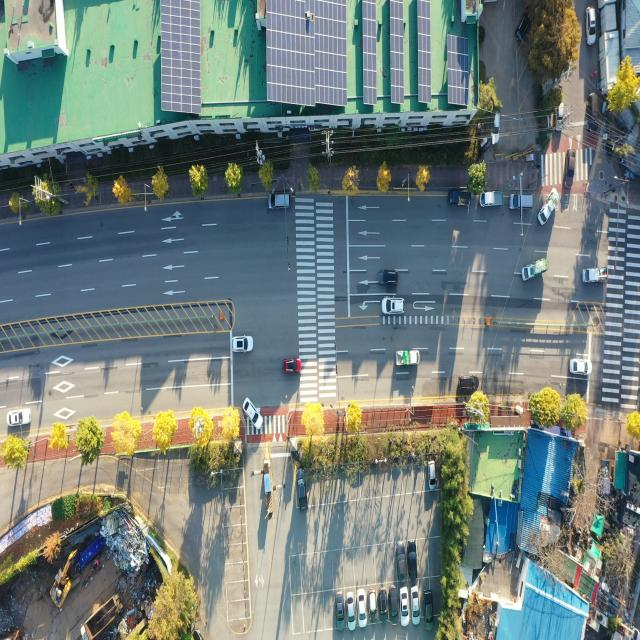car: (243, 397, 262, 431), (515, 13, 535, 44), (296, 465, 308, 507), (585, 97, 597, 138), (513, 189, 538, 207), (8, 410, 32, 428), (508, 194, 532, 212), (564, 152, 575, 190), (586, 6, 596, 46), (409, 542, 419, 582), (270, 194, 292, 212), (382, 299, 405, 316), (424, 588, 434, 626), (378, 270, 398, 288), (458, 375, 478, 393), (347, 590, 356, 630), (571, 358, 592, 375), (357, 589, 366, 628), (378, 589, 388, 624), (399, 588, 408, 626), (234, 337, 254, 354), (337, 593, 346, 630), (396, 542, 405, 578), (413, 587, 421, 625), (283, 358, 303, 373), (492, 111, 501, 144), (428, 459, 438, 488), (556, 104, 566, 130), (390, 588, 398, 620), (368, 590, 376, 618)
small_truck: (538, 190, 558, 227), (523, 260, 548, 284), (600, 458, 612, 497), (479, 191, 504, 209), (397, 350, 422, 368), (584, 268, 608, 285), (448, 190, 471, 207)
